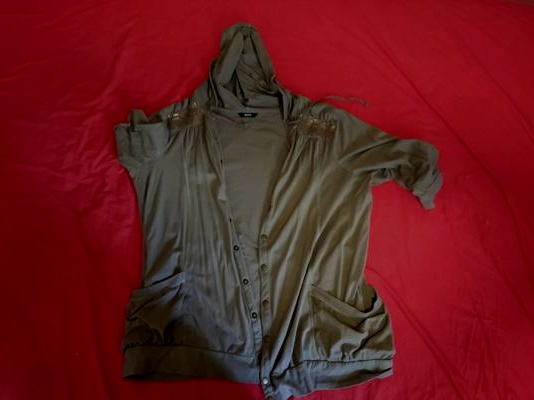Hoodie: (99, 16, 468, 388)
